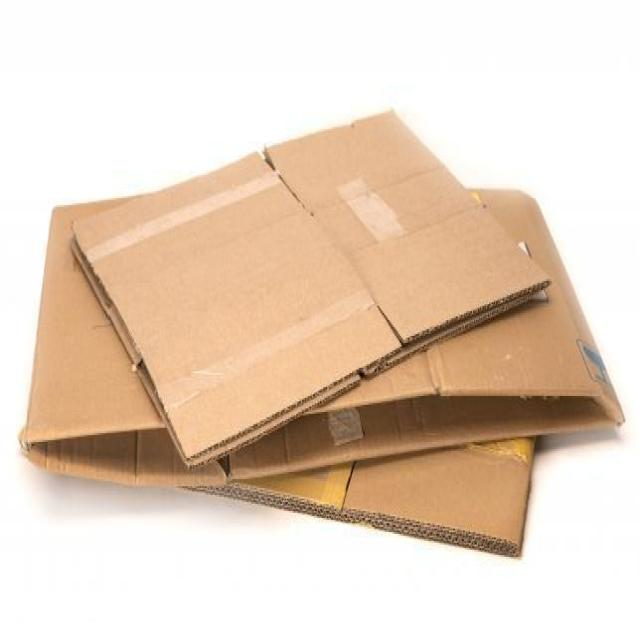cardboard: (18, 104, 624, 561)
